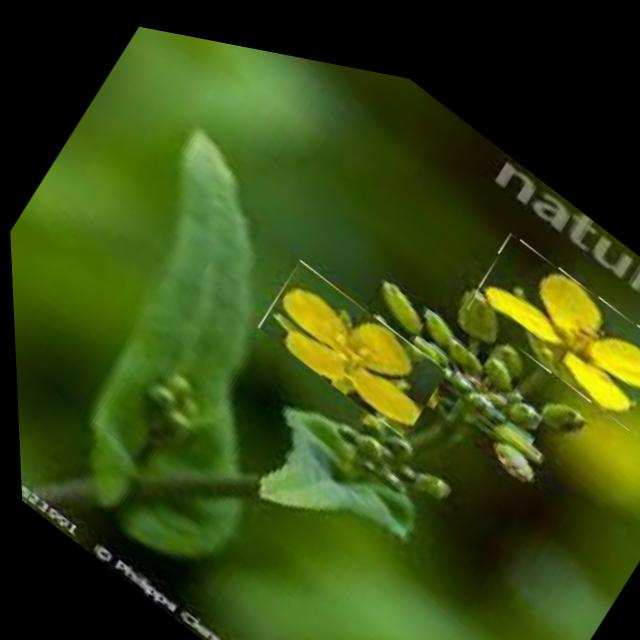Flower: (459, 202, 640, 418), (252, 241, 448, 435)
